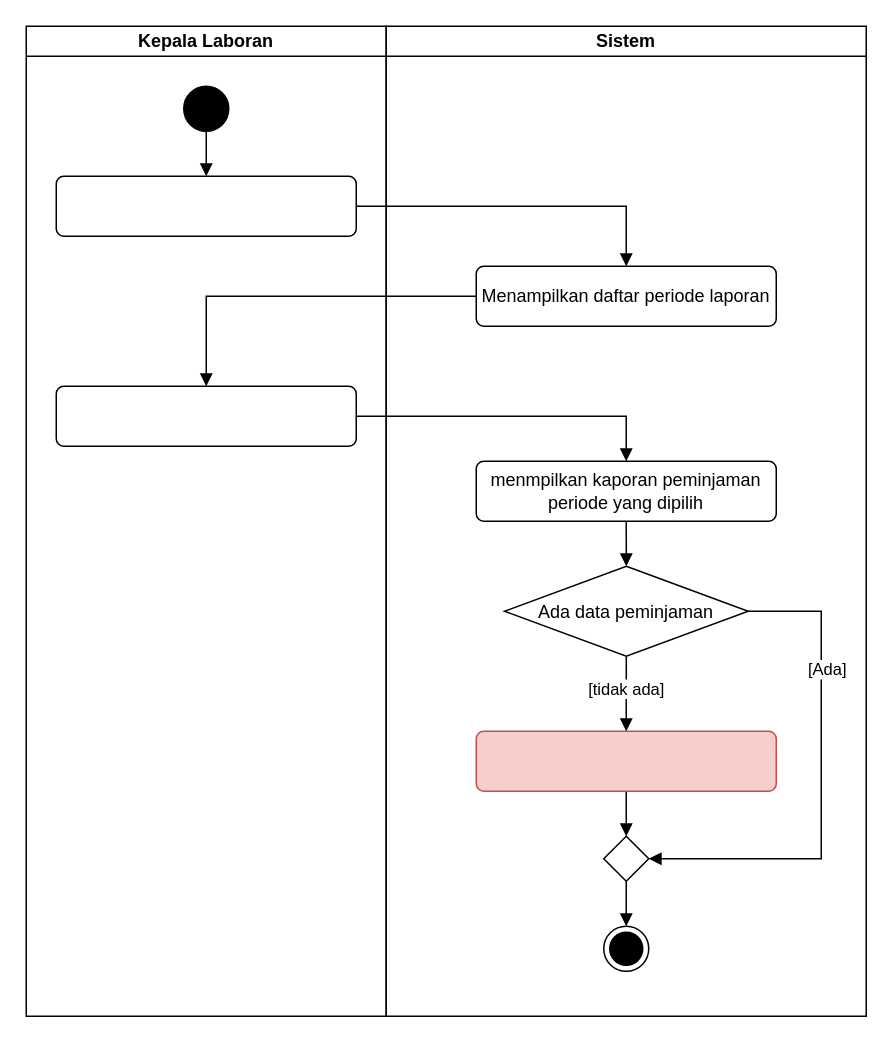
Image size: 893x1043. Some labels were removed from this diagram. Each missing label, with the centre of its shape:
"Membuka fungsi laporan peminjaman" belongs at (205,205).
"memilih periode laporan" belongs at (205,415).
"Menampilkan pesan tidak ada data peminjaman pada periode tersebut" belongs at (625,760).
